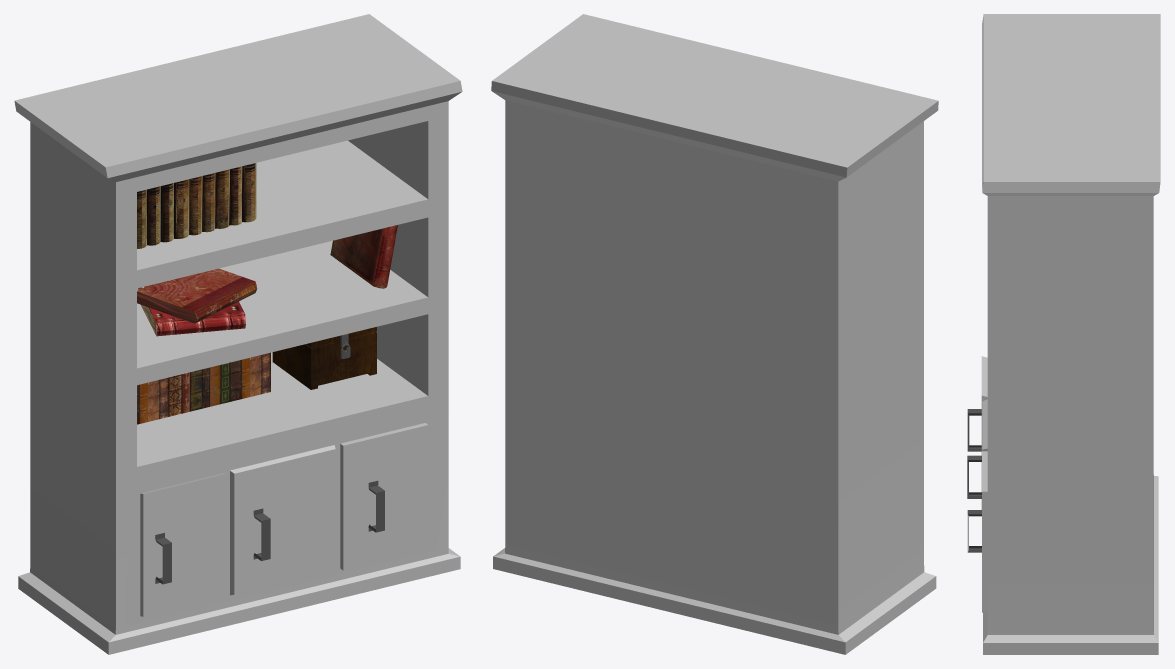
The model's file is newbookshelf2.fbx.
3 renders of one model, left to right at view 1: azimuth 30°, elevation 25°; view 2: azimuth 150°, elevation 25°; view 3: azimuth 270°, elevation 25°, orthographic. The views are drawn at different scales.
Parts seen in each view (by area): view 1: bookshelf; view 2: bookshelf; view 3: bookshelf.
Boxes of the visible parts, box(x1,y1,x2,y2) form: bookshelf: box(14, 14, 462, 654); bookshelf: box(491, 14, 938, 654); bookshelf: box(967, 14, 1160, 654).
Size of the model in its own units: 175 by 229 by 84.51.
